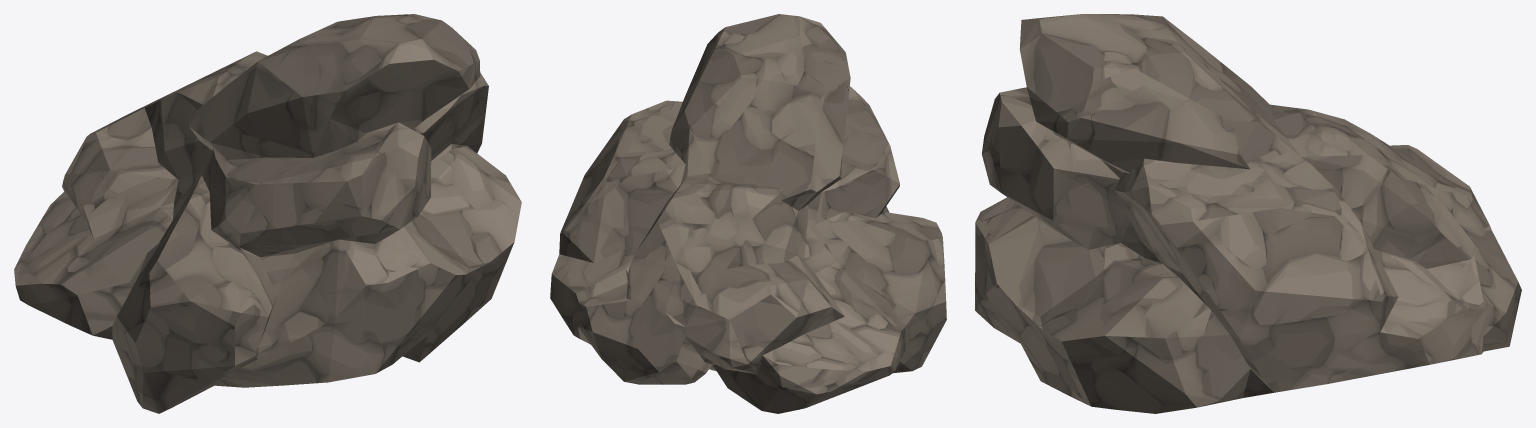
3 renders of one model, left to right at view 1: azimuth 30°, elevation 25°; view 2: azimuth 150°, elevation 25°; view 3: azimuth 270°, elevation 25°, orthographic. The views are drawn at different scales.
Visible parts, largest first — view 1: SM_Rock_Pile_02; view 2: SM_Rock_Pile_02; view 3: SM_Rock_Pile_02.
Boxes of the visible parts, box(x1,y1,x2,y2) form: SM_Rock_Pile_02: box(14, 14, 521, 413); SM_Rock_Pile_02: box(550, 14, 946, 413); SM_Rock_Pile_02: box(975, 14, 1521, 413).
Size of the model in its own units: 5.4 by 4.35 by 5.55.
Materials: 1 (1 with a texture image).
